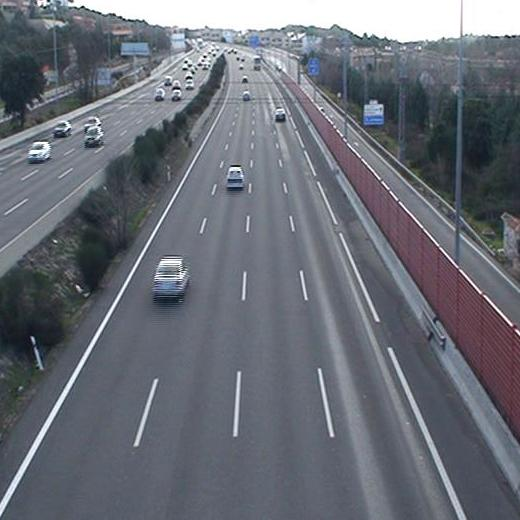car: (152, 256, 188, 298), (225, 166, 244, 188), (273, 107, 287, 121)
